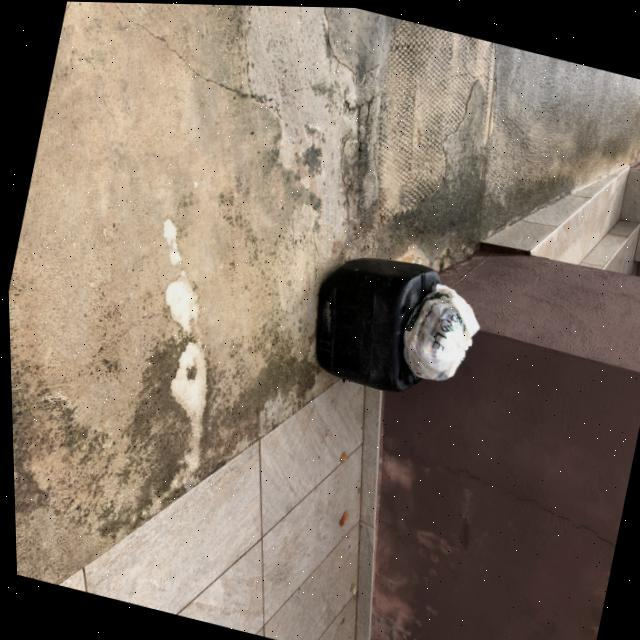Organic Waste -White Bag-: (392, 274, 491, 391)
Other: (294, 227, 448, 404)
